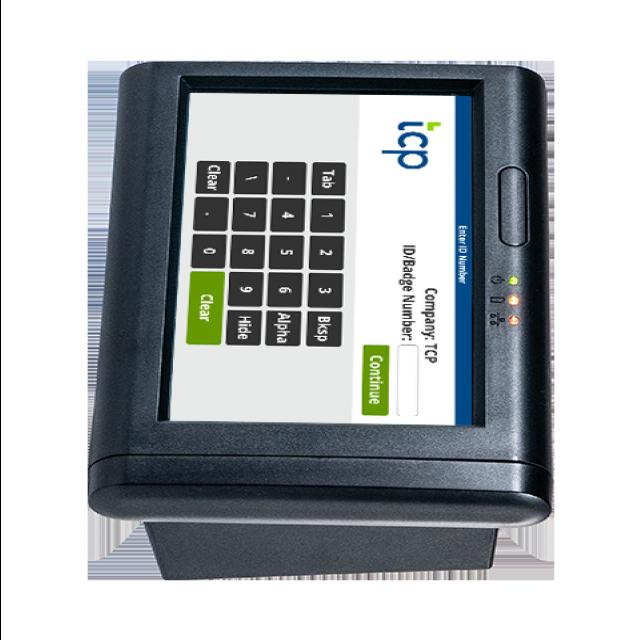clock: (1, 61, 566, 574)
